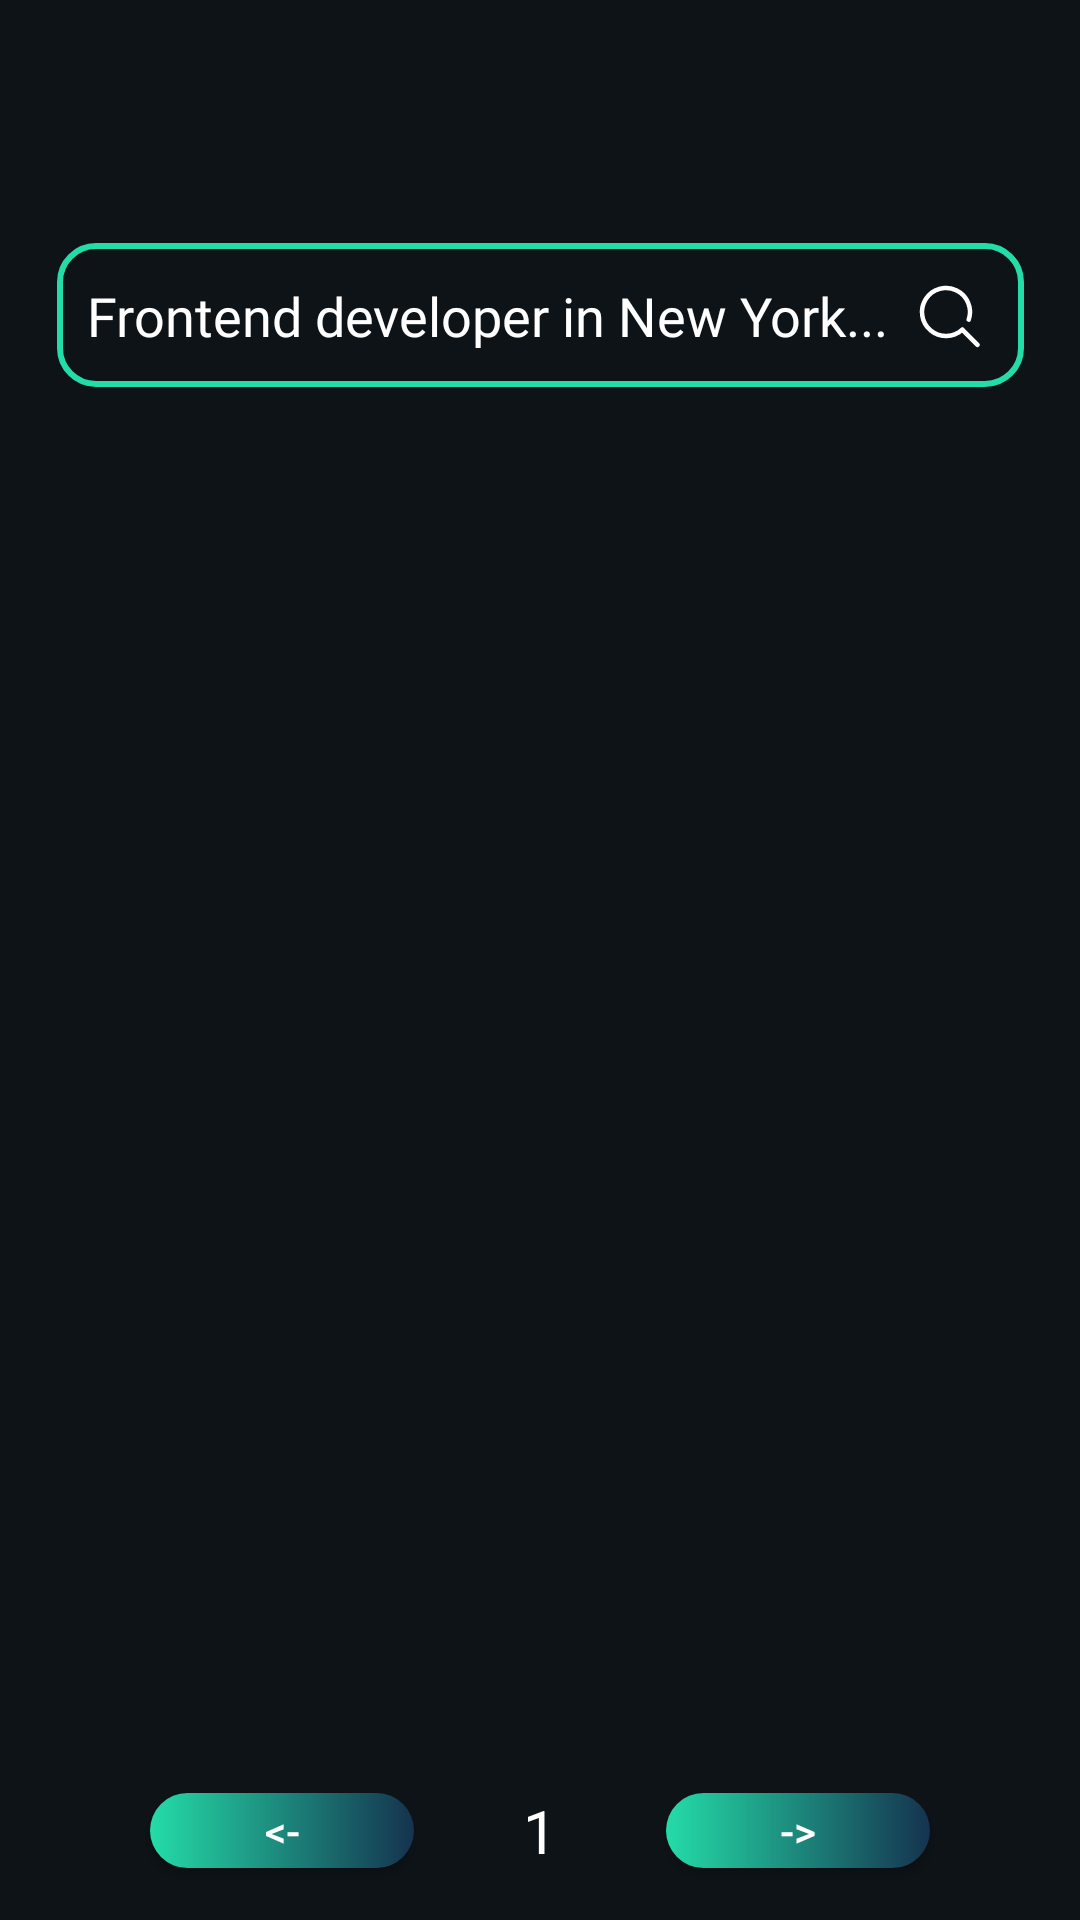

Screen size 1080×1920. Icon name, then its center in pixels as [x,y]:
search: [949,315]
